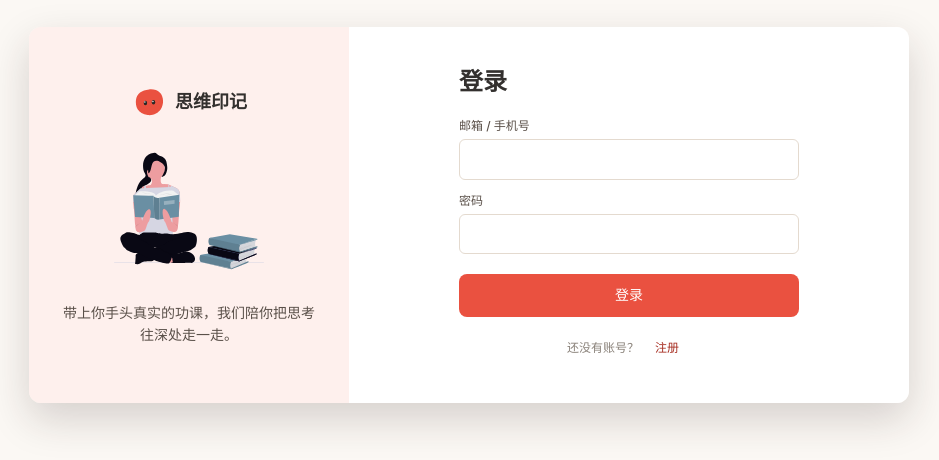
Scenario: AuthScreen › shows an inline error on bad credentials
Click the button "登录".
click(629, 295)  # box [459,274,799,317]
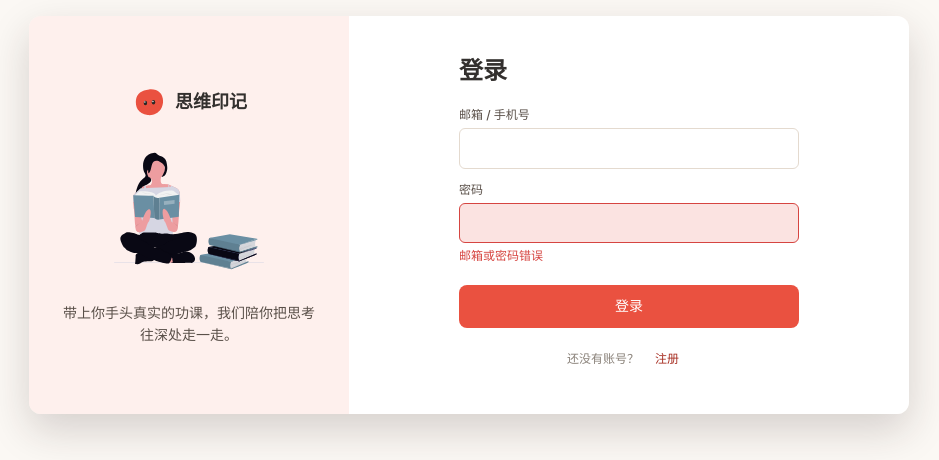
expect the text "邮箱或密码错误" is shown: met, box [459,248,543,263]
